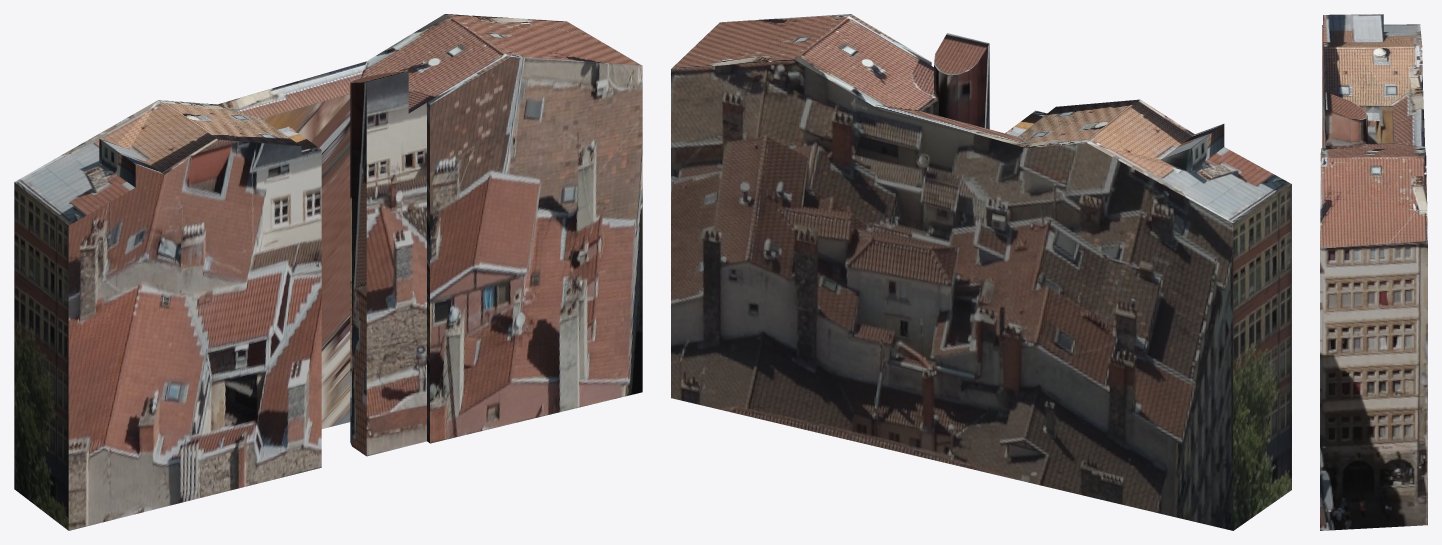
3 views of the same model, side by side, from view 1: azimuth 30°, elevation 25°; view 2: azimuth 150°, elevation 25°; view 3: azimuth 270°, elevation 25° (orthographic). The views are drawn at different scales.
Parts seen in each view (by area): view 1: Z_UP; view 2: Z_UP; view 3: Z_UP.
Boxes of the visible parts, <box> form: Z_UP: <box>14,14,642,530</box>; Z_UP: <box>671,14,1291,530</box>; Z_UP: <box>1320,14,1427,530</box>.
Size of the model in its own units: 42.08 by 26.29 by 7.94.
Materials: 2 (1 with a texture image).
